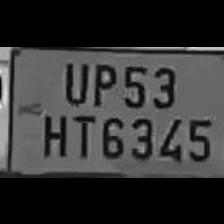3: (127, 109, 154, 159), (148, 60, 176, 108)
4: (154, 112, 184, 162)
5: (183, 111, 212, 161), (117, 59, 147, 107)
6: (96, 111, 124, 159)
H: (38, 108, 66, 158)
P: (88, 58, 116, 106)
T: (66, 109, 96, 159)
U: (57, 56, 87, 104)
